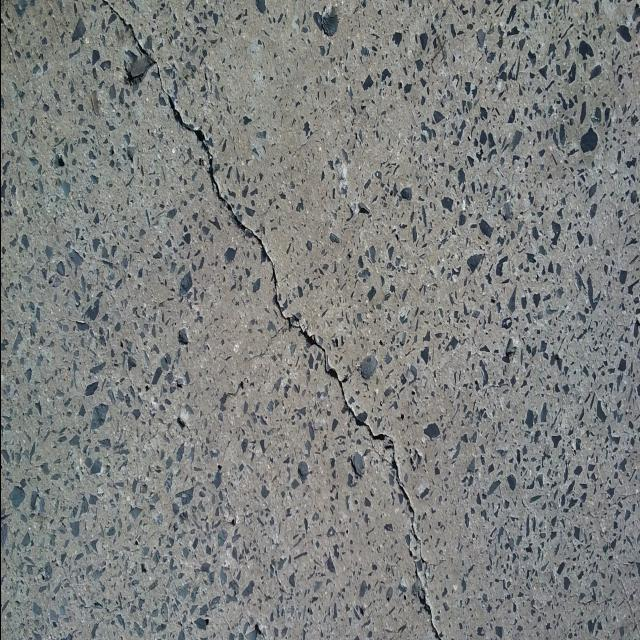pothole: (95, 10, 457, 628)
